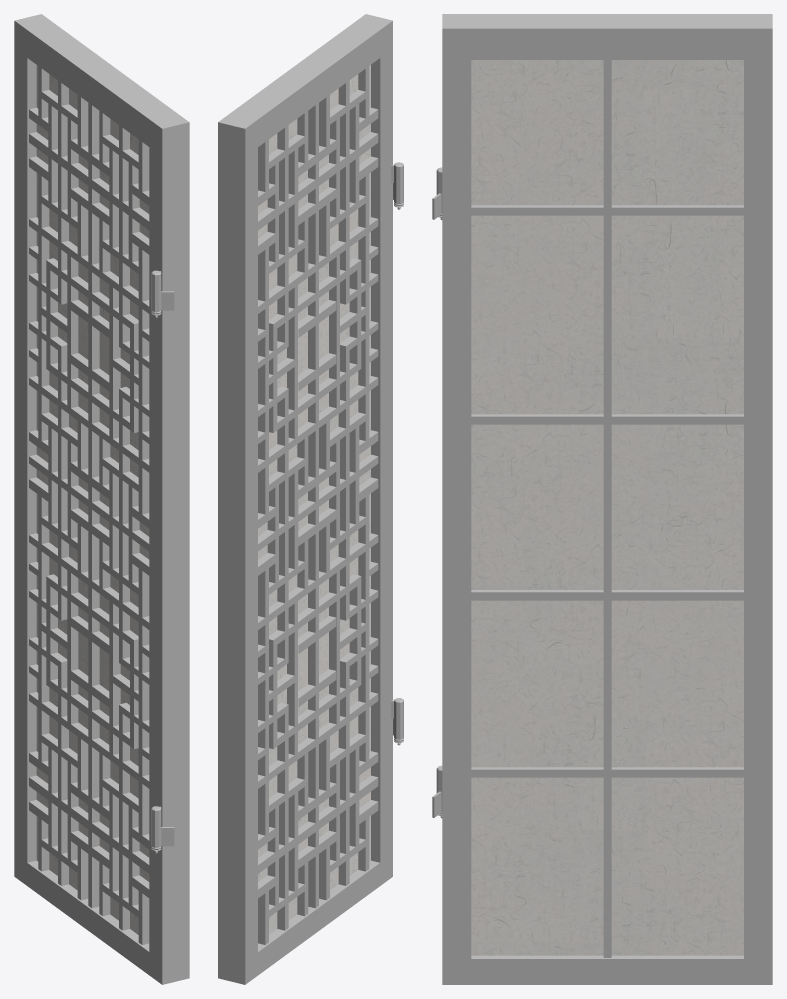
The model's file is SM_Door13B-a.fbx.
3 renders of one model, left to right at view 1: azimuth 30°, elevation 25°; view 2: azimuth 150°, elevation 25°; view 3: azimuth 270°, elevation 25°, orthographic. The views are drawn at different scales.
Parts seen in each view (by area): view 1: SM_Door13B-a; view 2: SM_Door13B-a; view 3: SM_Door13B-a.
Part boxes in pixels (x1,y1,x2,y2): SM_Door13B-a: [14, 14, 189, 984]; SM_Door13B-a: [218, 14, 403, 984]; SM_Door13B-a: [432, 14, 772, 984].
Size of the model in its own units: 8.4 by 58.96 by 183.
